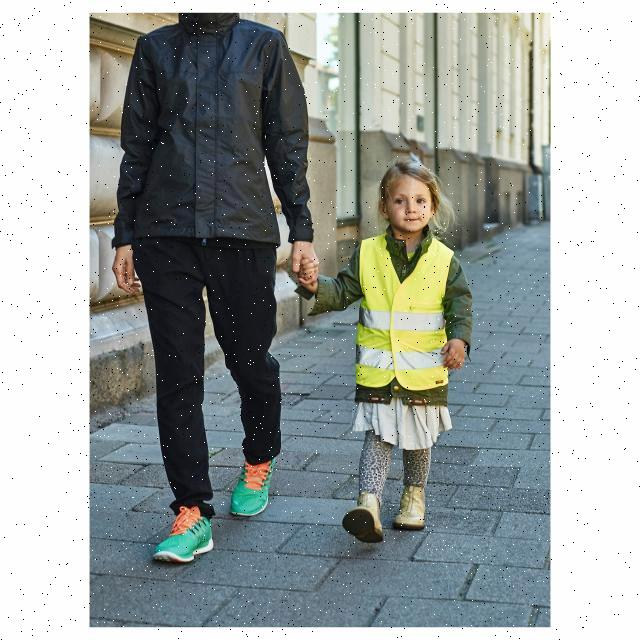Vest: (356, 232, 454, 396)
